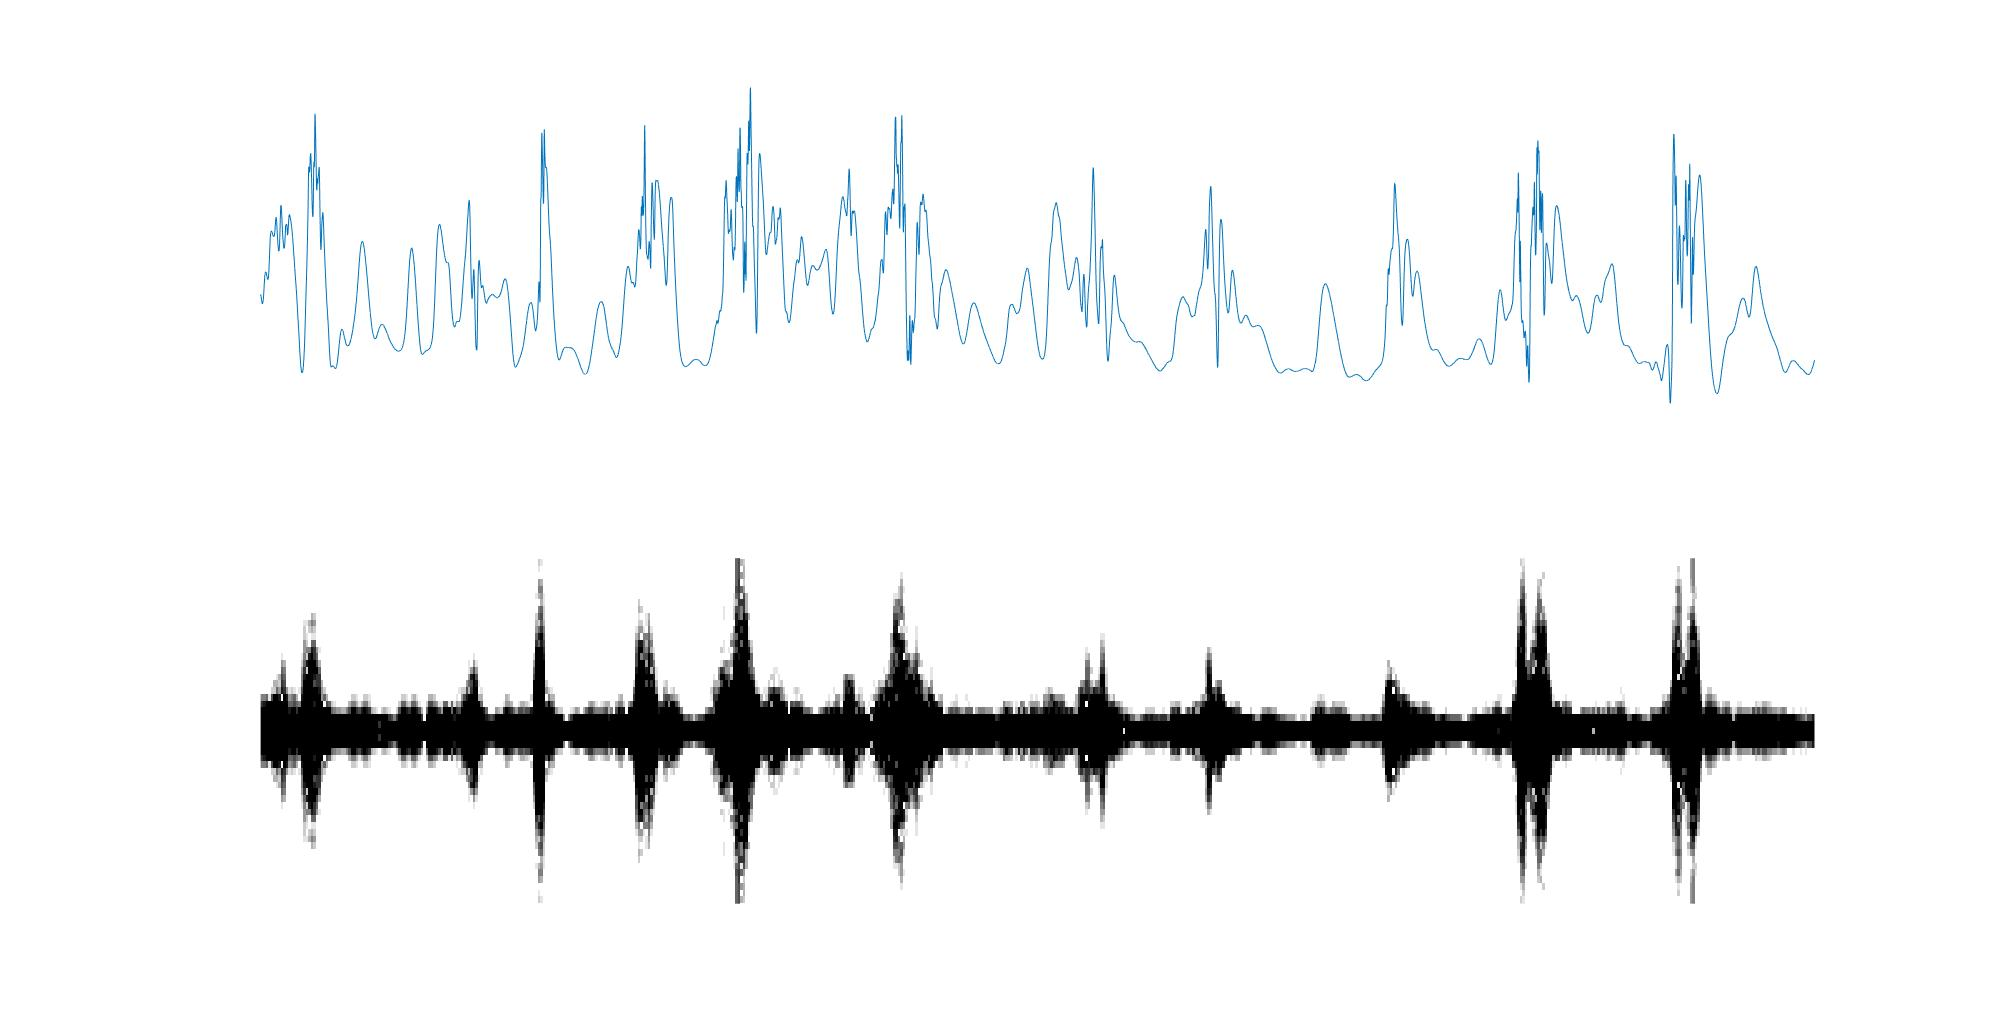spot: (708, 560, 768, 911), (1514, 564, 1554, 892), (1670, 557, 1705, 908), (629, 600, 674, 864), (528, 568, 553, 886)
